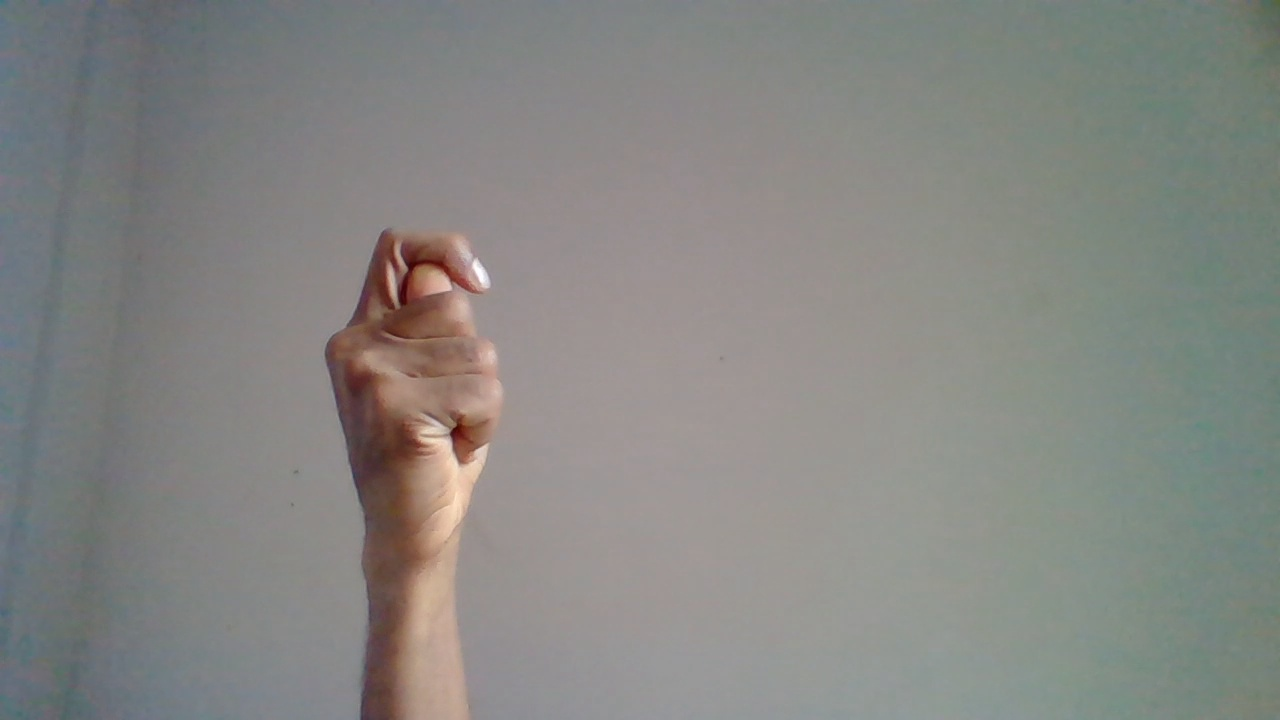che: (321, 231, 509, 659)
